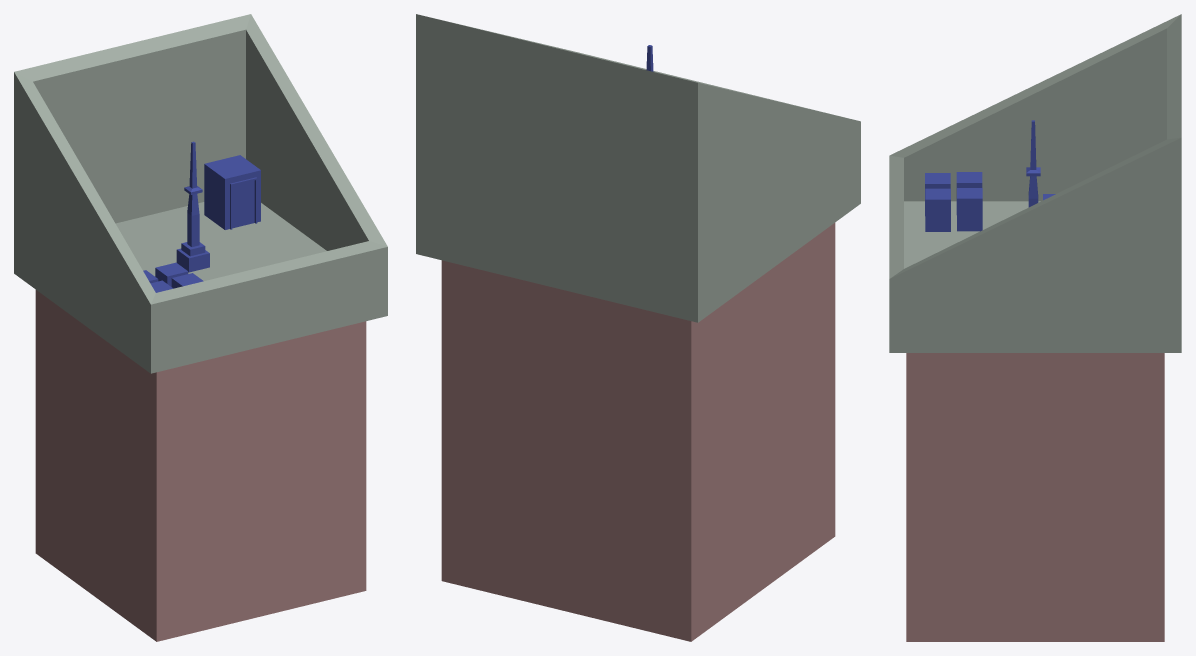
The model's file is Building_C3.fbx.
3 renders of one model, left to right at view 1: azimuth 30°, elevation 25°; view 2: azimuth 150°, elevation 25°; view 3: azimuth 270°, elevation 25°, orthographic. The views are drawn at different scales.
Parts seen in each view (by area): view 1: pCube96; view 2: pCube96; view 3: pCube96.
Boxes of the visible parts, x1=… form: pCube96: x1=14, y1=14, x2=387, y2=641; pCube96: x1=416, y1=14, x2=860, y2=641; pCube96: x1=889, y1=14, x2=1181, y2=641.
Bounding box in the file's own units: 6.81 × 13.15 × 6.81.
